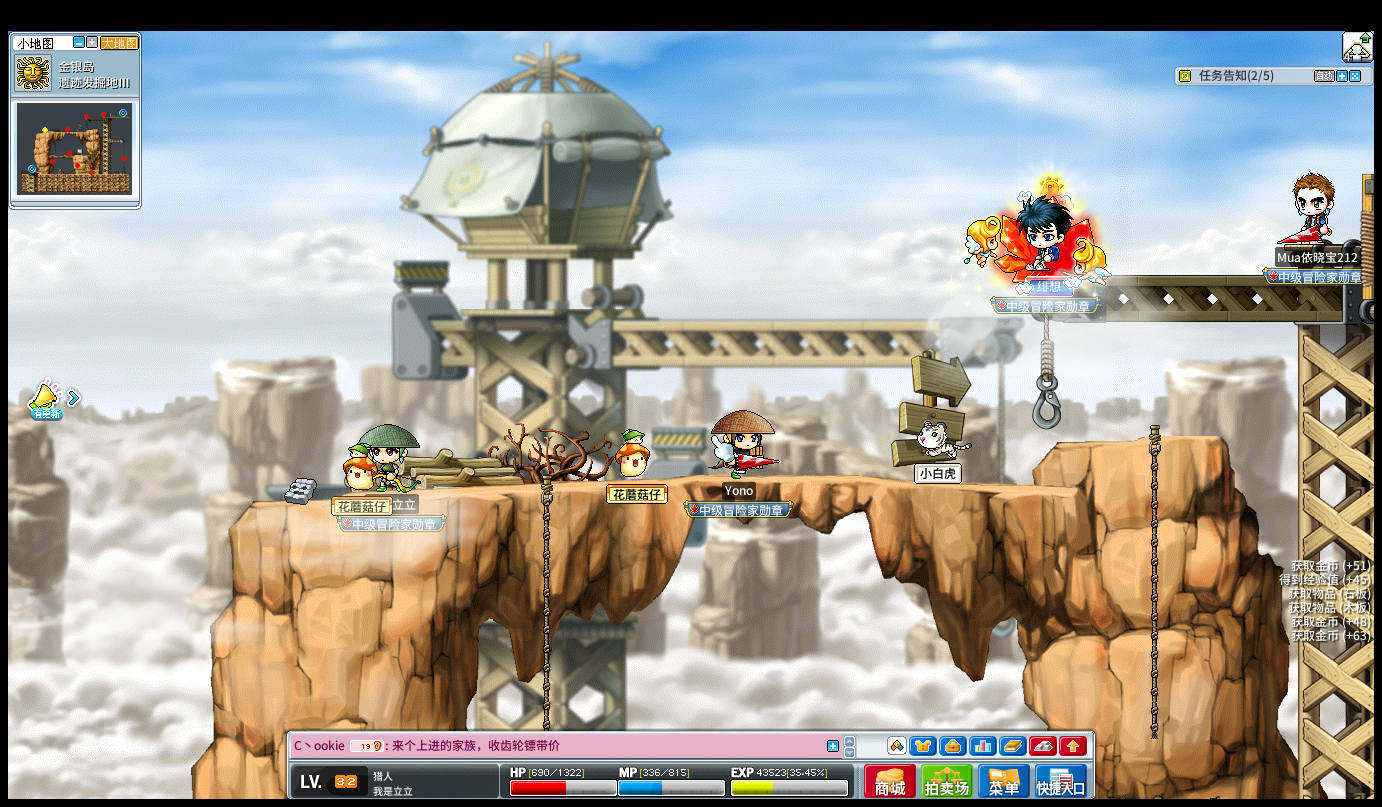floor: (266, 467, 1112, 497), (1054, 431, 1225, 447)
rope: (1145, 417, 1161, 739), (539, 467, 551, 755), (540, 469, 551, 677), (1040, 315, 1053, 427)
